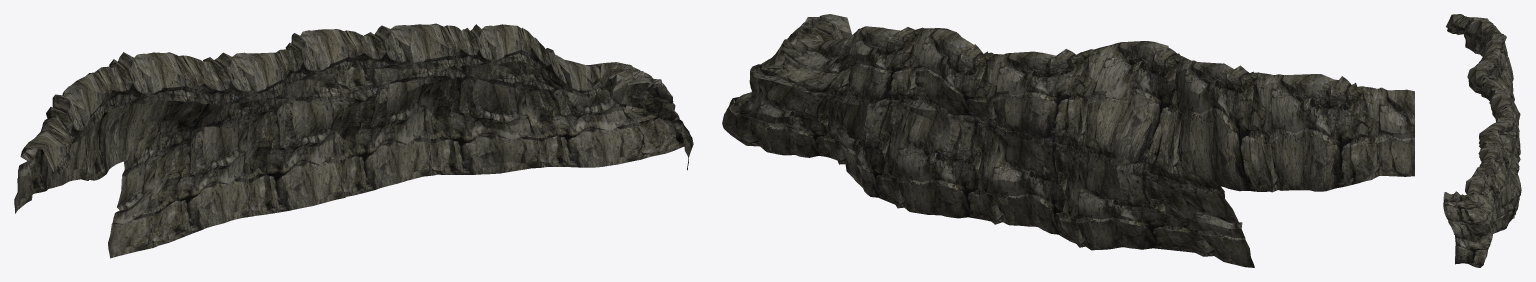
File: rock_detail_D.FBX
3 views of the same model, side by side, from view 1: azimuth 30°, elevation 25°; view 2: azimuth 150°, elevation 25°; view 3: azimuth 270°, elevation 25° (orthographic). The views are drawn at different scales.
Visible parts, largest first — view 1: rock_detail_D; view 2: rock_detail_D; view 3: rock_detail_D.
Boxes of the visible parts, bbox=[...] form: rock_detail_D: bbox=[14, 23, 693, 258]; rock_detail_D: bbox=[722, 14, 1414, 267]; rock_detail_D: bbox=[1443, 14, 1521, 267].
Size of the model in its own units: 109 by 32.45 by 21.58.
